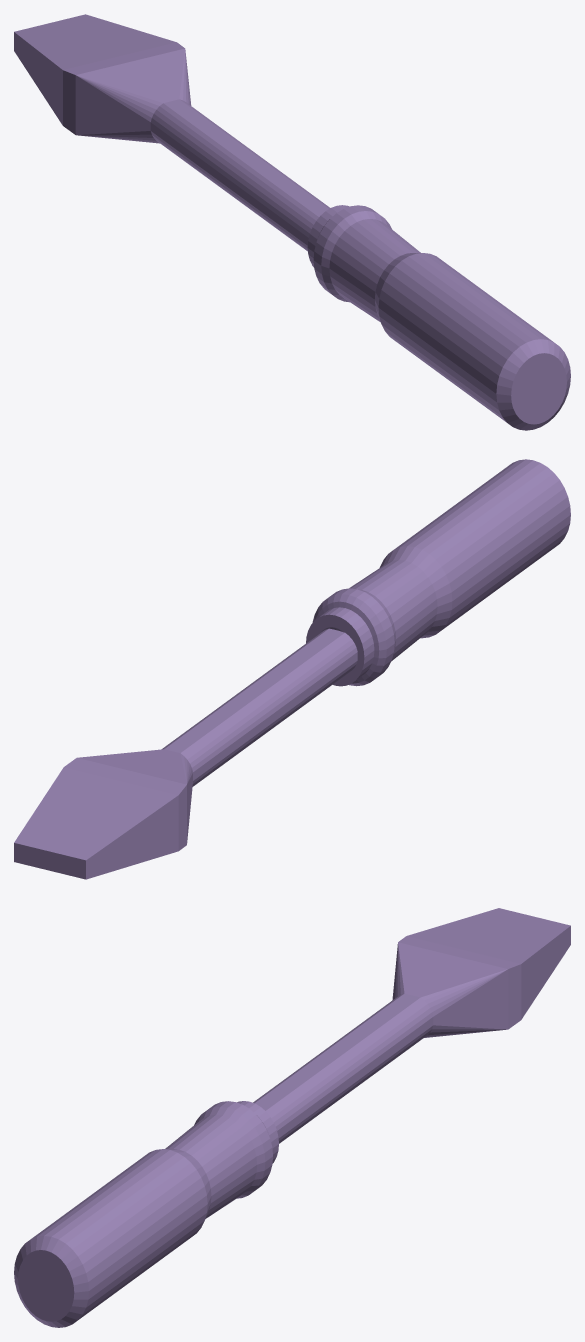
File: screwdriver.fbx
The picture shows the model from 3 angles, top to bottom: view 1: azimuth 30°, elevation 25°; view 2: azimuth 150°, elevation 25°; view 3: azimuth 330°, elevation 25°; orthographic projection.
Visible parts, largest first — view 1: Cube; view 2: Cube; view 3: Cube.
Boxes of the visible parts, bbox=[...] form: Cube: bbox=[14, 14, 570, 430]; Cube: bbox=[14, 459, 570, 879]; Cube: bbox=[14, 908, 570, 1327].
Size of the model in its own units: 65.18 by 48.96 by 482.
